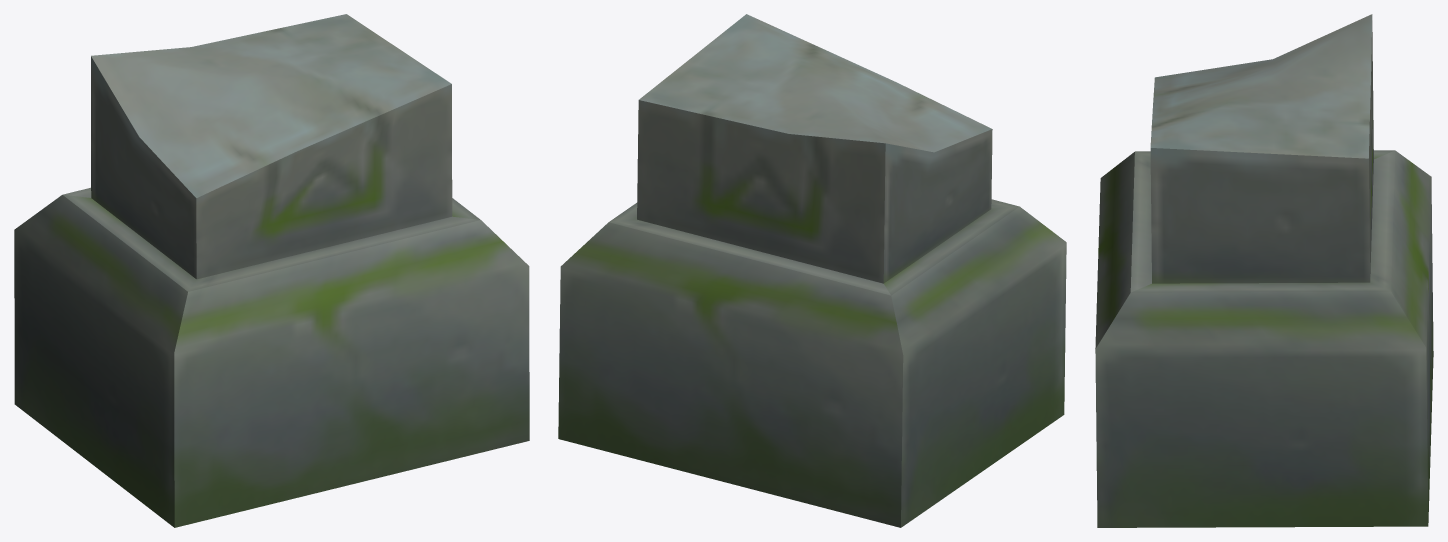
The model's file is scene_shenmisenlin_strone03.FBX.
3 views of the same model, side by side, from view 1: azimuth 30°, elevation 25°; view 2: azimuth 150°, elevation 25°; view 3: azimuth 270°, elevation 25° (orthographic). The views are drawn at different scales.
Parts seen in each view (by area): view 1: scene_shenmisenlin_strone03; view 2: scene_shenmisenlin_strone03; view 3: scene_shenmisenlin_strone03.
Part boxes in pixels (box(x1,y1,x2,y2)): scene_shenmisenlin_strone03: box(14, 14, 529, 527); scene_shenmisenlin_strone03: box(558, 14, 1066, 527); scene_shenmisenlin_strone03: box(1095, 14, 1433, 527).
Size of the model in its own units: 57.42 by 55.67 by 46.45.
